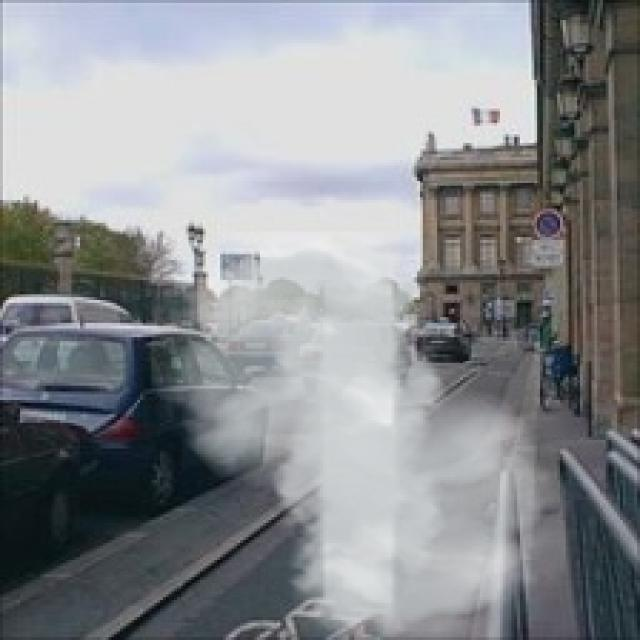Smoke: (152, 232, 568, 637)
